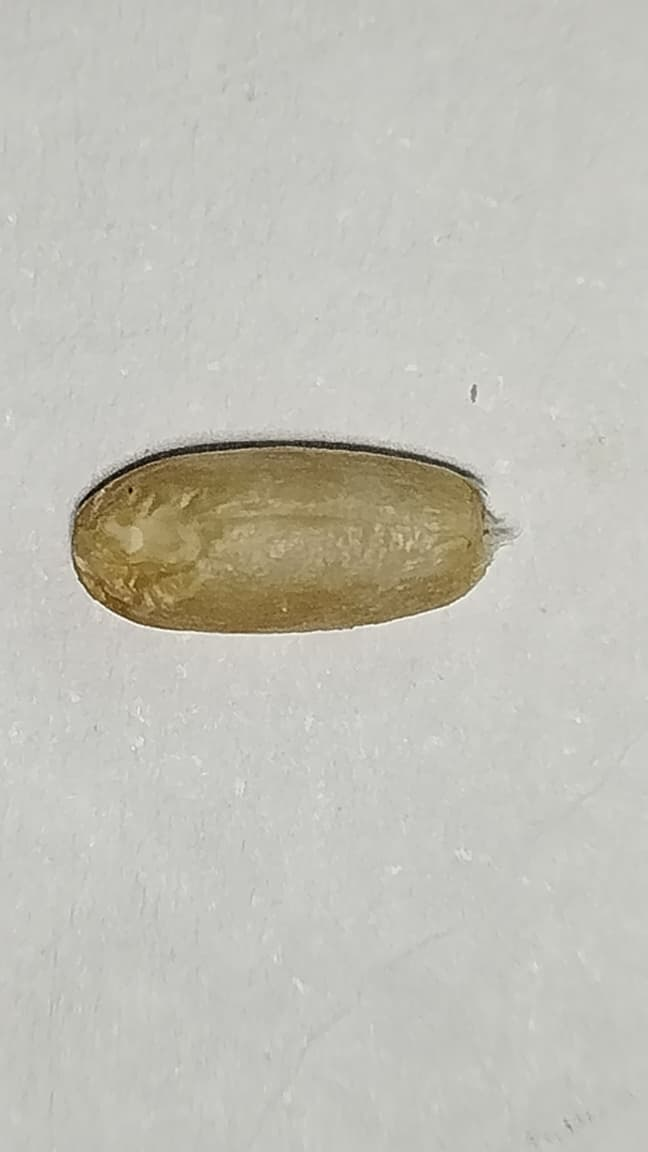healthy: (71, 449, 492, 637)
